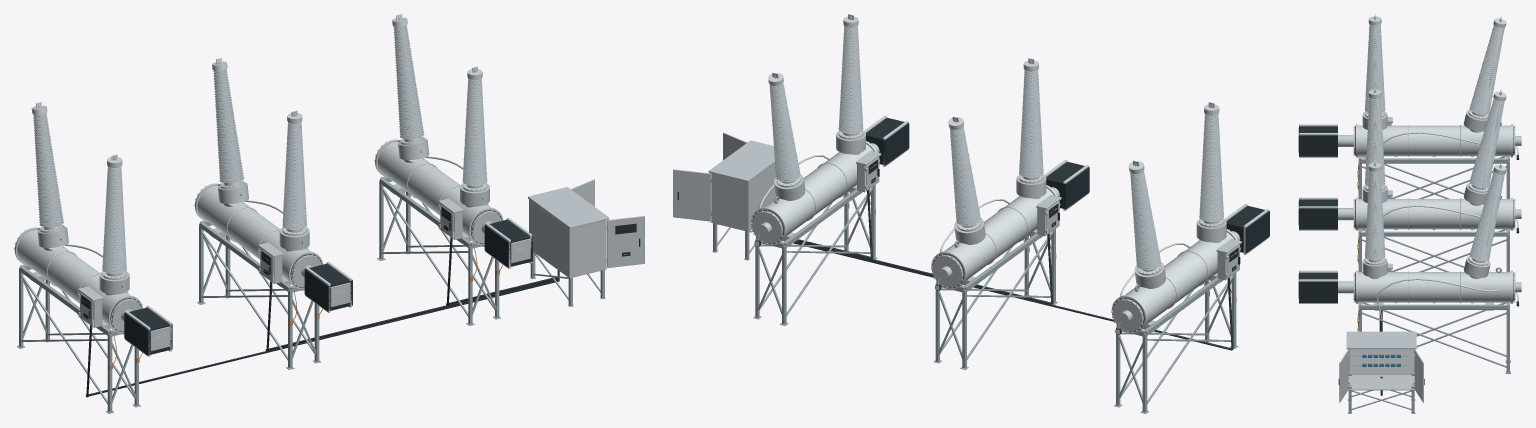
The model's file is independent-pole-breaker-service.glb.
3 renders of one model, left to right at view 1: azimuth 30°, elevation 25°; view 2: azimuth 150°, elevation 25°; view 3: azimuth 270°, elevation 25°, orthographic. The views are drawn at different scales.
Visible parts, largest first — view 1: Object100187, Object100273, Object100359, Object100617, Object100513, Object100565, Object100591, Object100487, Object100539, Object100064, Object100083, Object100082 (+9 smaller); view 2: Object100273, Object100359, Object100187, Object100487, Object100539, Object100591, Object100565, Object100513, Object100617, Object100085, Object100070, Object100083 (+12 smaller); view 3: Object100187, Object100359, Object100273, Object100513, Object100565, Object100617, Object100487, Object100081, Object100083, Object100539, Object100591, Object100274 (+19 smaller).
Part boxes in pixels (x1,y1,x2,y2): Object100187: [377, 142, 490, 236]; Object100273: [197, 186, 310, 280]; Object100359: [17, 229, 129, 324]; Object100617: [33, 113, 63, 226]; Object100513: [393, 25, 424, 138]; Object100565: [213, 69, 244, 182]; Object100591: [102, 166, 126, 274]; Object100487: [462, 78, 487, 186]; Object100539: [282, 122, 306, 230]; Object100064: [529, 200, 569, 277]; Object100083: [528, 187, 609, 228]; Object100082: [569, 220, 606, 277]; Object100273: [944, 188, 1053, 280]; Object100359: [1125, 232, 1233, 324]; Object100187: [764, 144, 872, 236]; Object100487: [838, 25, 863, 133]; Object100539: [1019, 69, 1043, 177]; Object100591: [1199, 113, 1223, 221]; Object100565: [950, 127, 980, 226]; Object100513: [769, 83, 800, 182]; Object100617: [1130, 171, 1160, 270]; Object100085: [711, 173, 748, 230]; Object100070: [673, 169, 710, 221]; Object100083: [708, 140, 774, 182]; Object100187: [1358, 272, 1510, 302]; Object100359: [1358, 125, 1510, 156]; Object100273: [1358, 199, 1510, 229]; Object100513: [1469, 171, 1504, 261]; Object100565: [1469, 98, 1504, 188]; Object100617: [1469, 25, 1504, 114]; Object100487: [1365, 170, 1385, 260]; Object100081: [1349, 349, 1413, 373]; Object100083: [1346, 331, 1416, 349]; Object100539: [1365, 97, 1385, 186]; Object100591: [1365, 24, 1385, 112]; Object100274: [1299, 199, 1337, 229].
Size of the model in its own units: 14.51 by 6.4 by 6.3.
